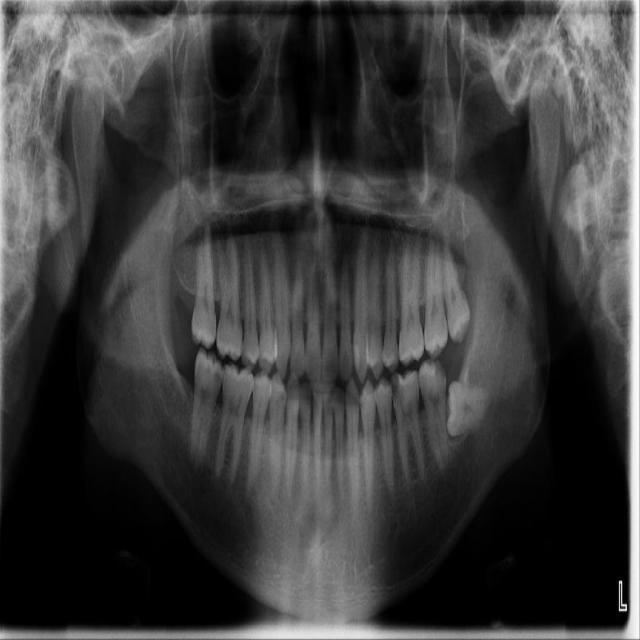Caries: (434, 359, 446, 382), (390, 373, 400, 400), (213, 374, 224, 397)
impacted tooth: (446, 381, 499, 437)
